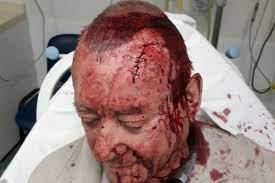Fire: (72, 1, 202, 183), (190, 108, 232, 166), (210, 169, 225, 182), (238, 123, 253, 133), (228, 94, 232, 99), (260, 129, 264, 134)
